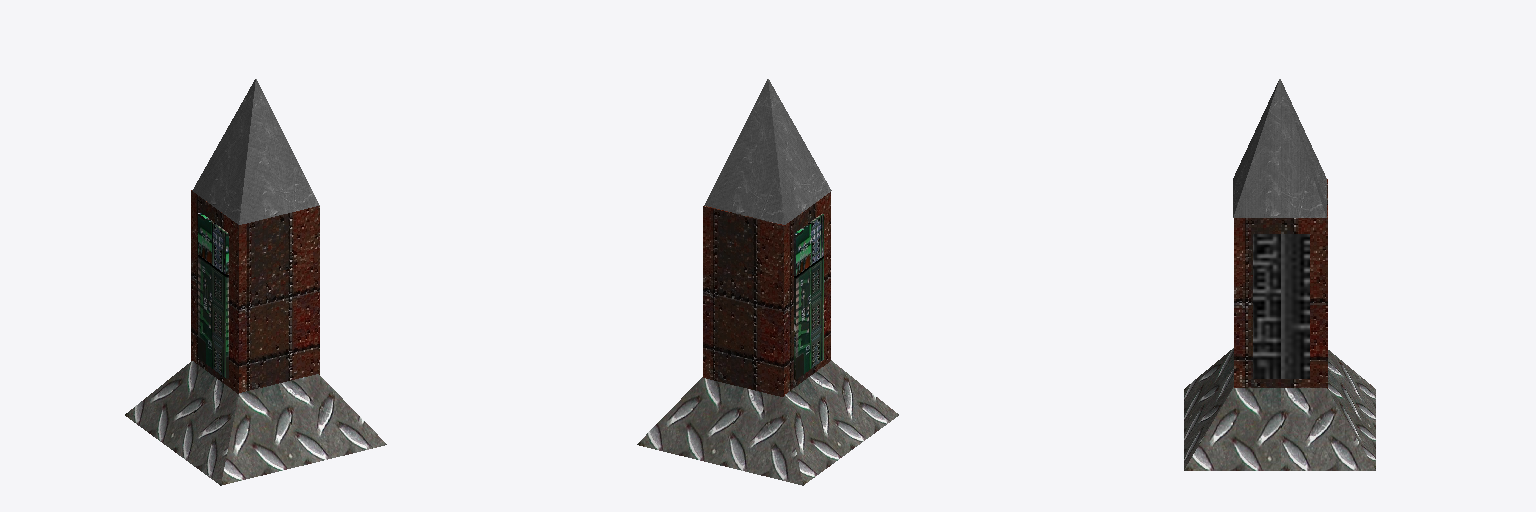
3 views of the same model, side by side, from view 1: azimuth 30°, elevation 25°; view 2: azimuth 150°, elevation 25°; view 3: azimuth 270°, elevation 25° (orthographic).
Parts seen in each view (by area): view 1: booster, body, cap, panel1; view 2: booster, body, cap, panel1; view 3: booster, cap, panel2, body.
Boxes of the visible parts, <box> form: booster: <box>125,361,386,485</box>; body: <box>191,190,319,393</box>; cap: <box>192,79,319,224</box>; panel1: <box>198,213,228,378</box>; booster: <box>637,360,898,485</box>; body: <box>703,192,830,396</box>; cap: <box>704,79,831,224</box>; panel1: <box>794,214,823,379</box>; booster: <box>1184,348,1375,470</box>; cap: <box>1233,79,1326,217</box>; panel2: <box>1253,234,1309,378</box>; body: <box>1234,179,1327,388</box>.
Bounding box in the file's own units: 1.18 × 2.41 × 1.18.
Materials: 6 (6 with a texture image).